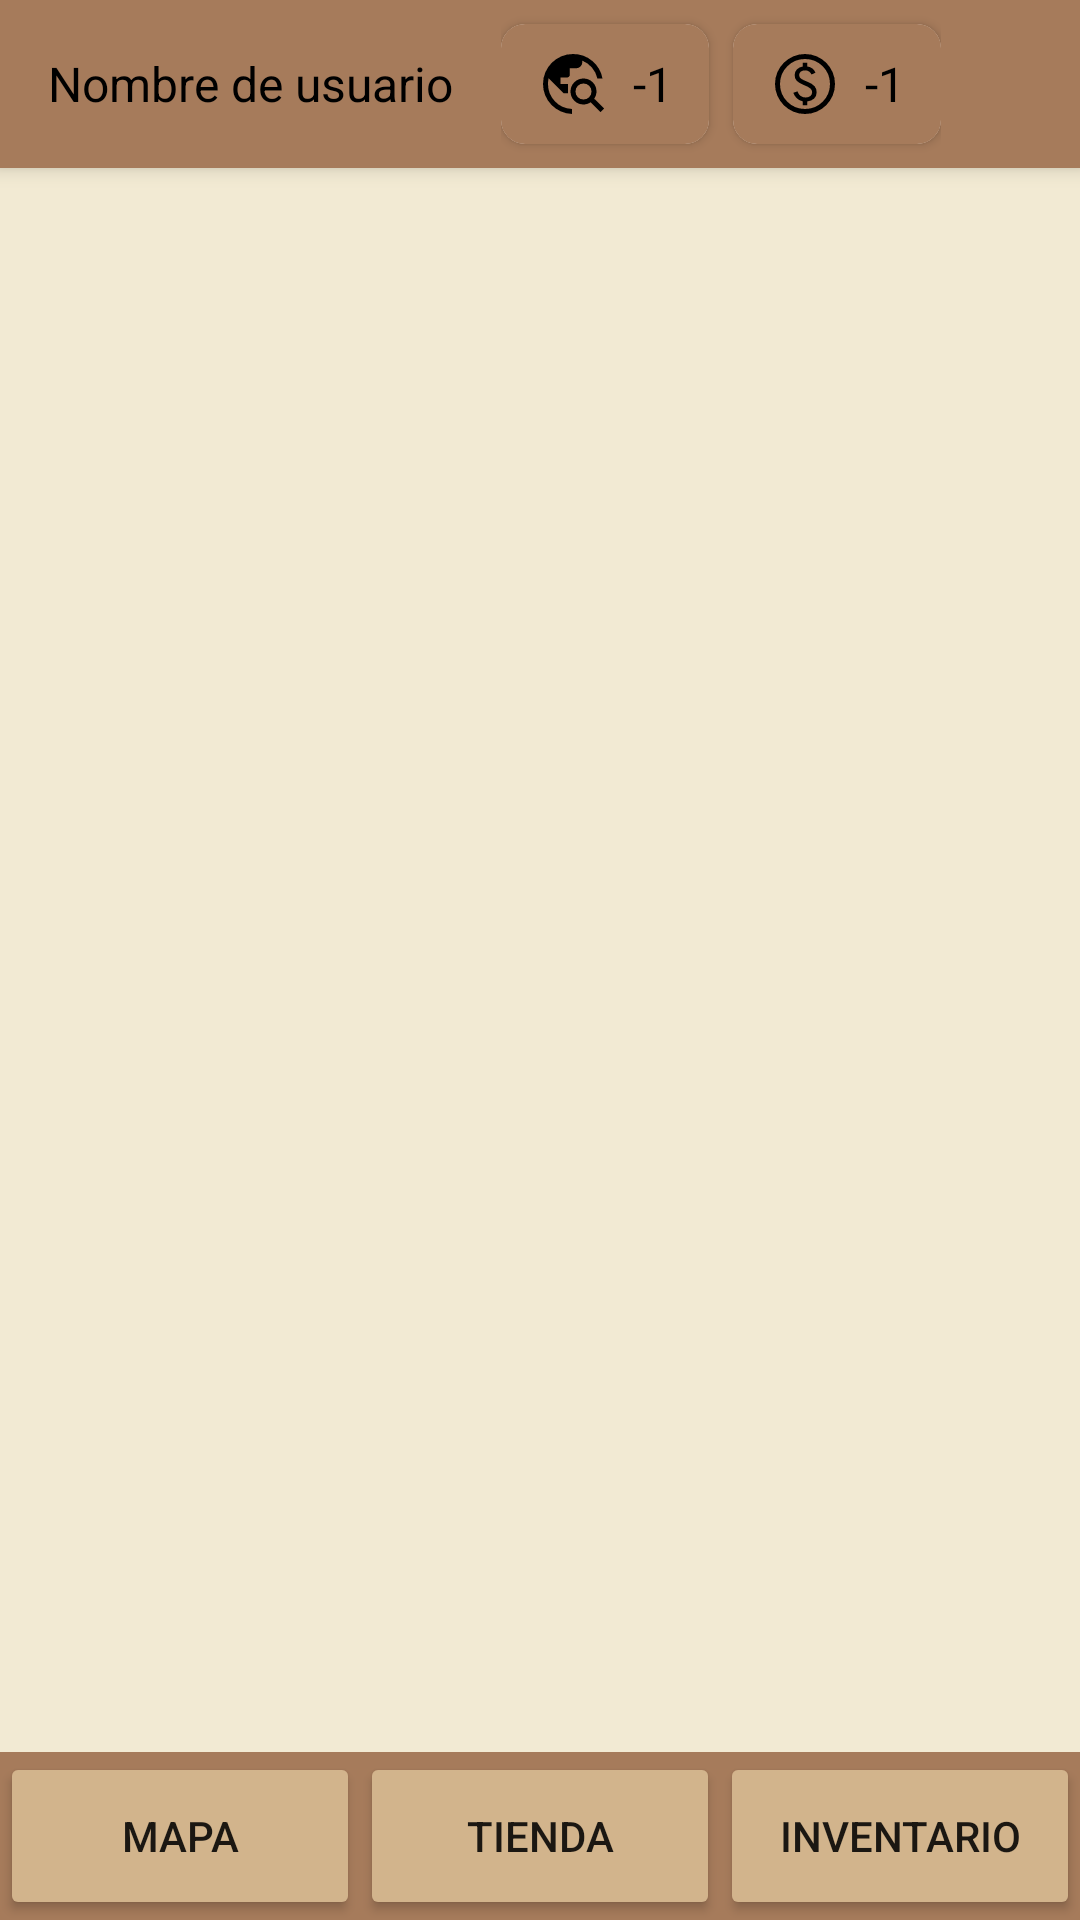

Named icons in this screenshot (1080px×1920px) and their bounding boxes, BBox(x1, y1, x2, y2):
dinero: BBox(775, 54, 835, 114)
lupa: BBox(543, 54, 604, 114)
